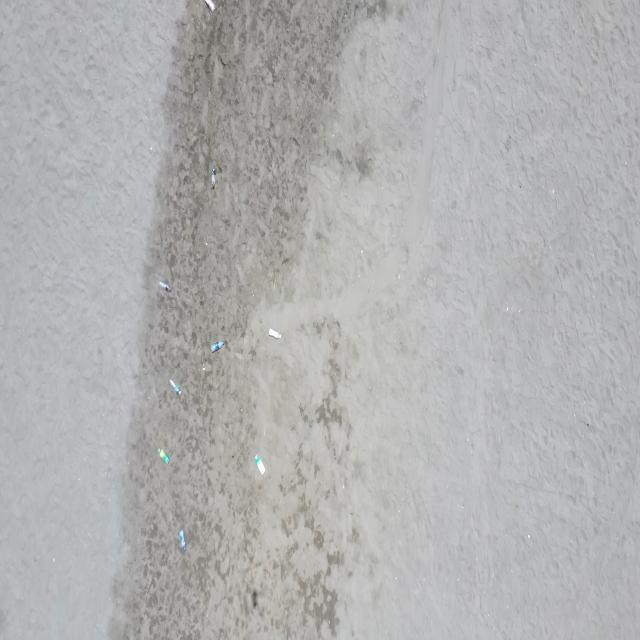plastic-bottle: (255, 453, 267, 477), (168, 376, 181, 397), (157, 447, 171, 465), (268, 326, 282, 341), (158, 279, 172, 294), (179, 527, 187, 553), (212, 340, 226, 353), (203, 0, 215, 13), (212, 169, 218, 188)
